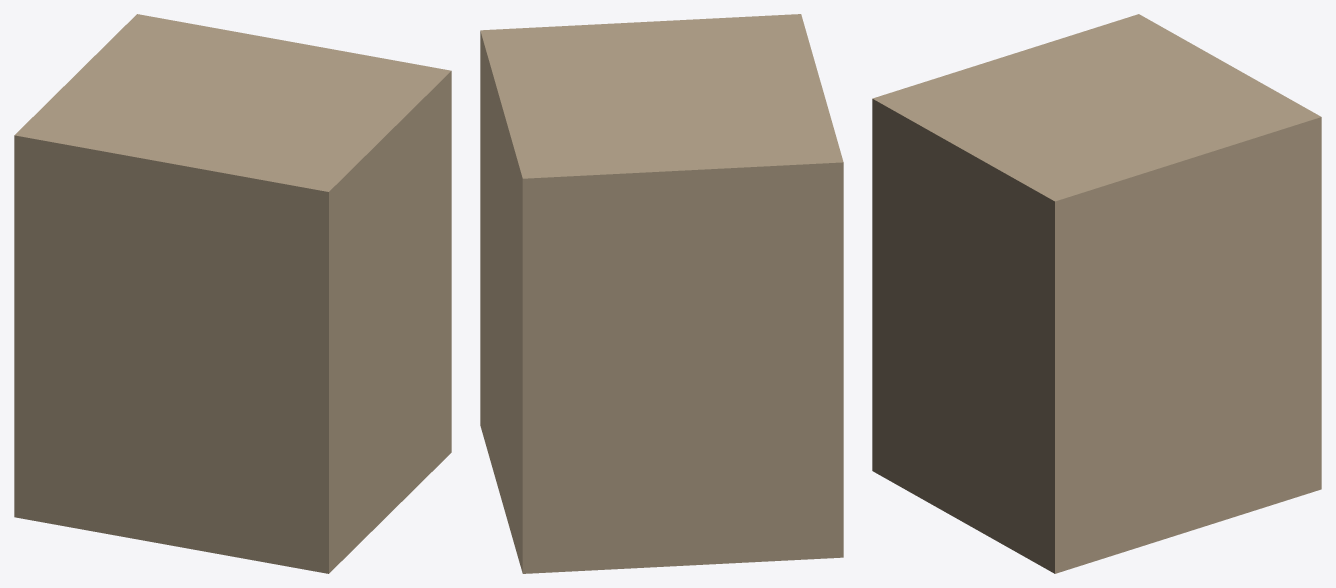
The model's file is bld_163484340.dae.
3 renders of one model, left to right at view 1: azimuth 30°, elevation 25°; view 2: azimuth 150°, elevation 25°; view 3: azimuth 270°, elevation 25°, orthographic. The views are drawn at different scales.
Parts seen in each view (by area): view 1: bld_163484340; view 2: bld_163484340; view 3: bld_163484340.
Part boxes in pixels (x1=…): bld_163484340: x1=14, y1=14, x2=451, y2=573; bld_163484340: x1=480, y1=14, x2=843, y2=573; bld_163484340: x1=872, y1=14, x2=1321, y2=573.
Bounding box in the file's own units: 8.64 × 8.75 × 8.
